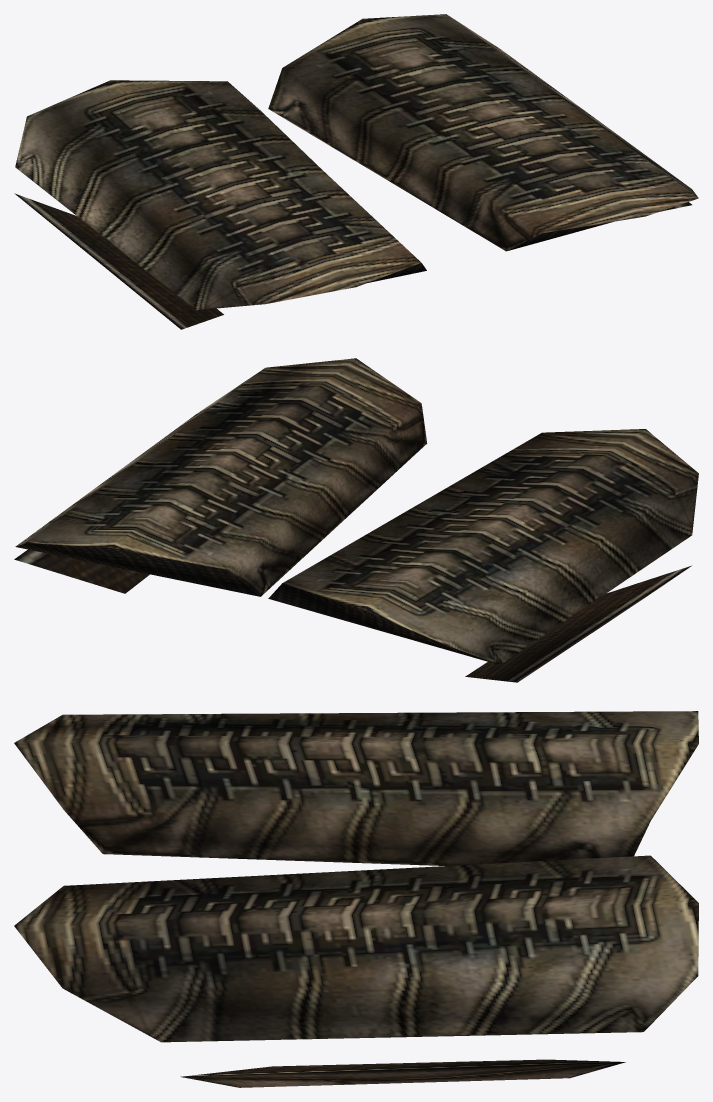
File: LegPads5__CMG.glb
3 renders of one model, top to bottom at view 1: azimuth 30°, elevation 25°; view 2: azimuth 150°, elevation 25°; view 3: azimuth 270°, elevation 25°, orthographic. The views are drawn at different scales.
Visible parts, largest first — view 1: LegPads5; view 2: LegPads5; view 3: LegPads5.
Part boxes in pixels (x1,y1,x2,y2): LegPads5: [14, 14, 698, 329]; LegPads5: [14, 358, 698, 682]; LegPads5: [14, 711, 698, 1087].
Bounding box in the file's own units: 21.54 × 4.08 × 19.31.
1 material, 1 textured.
